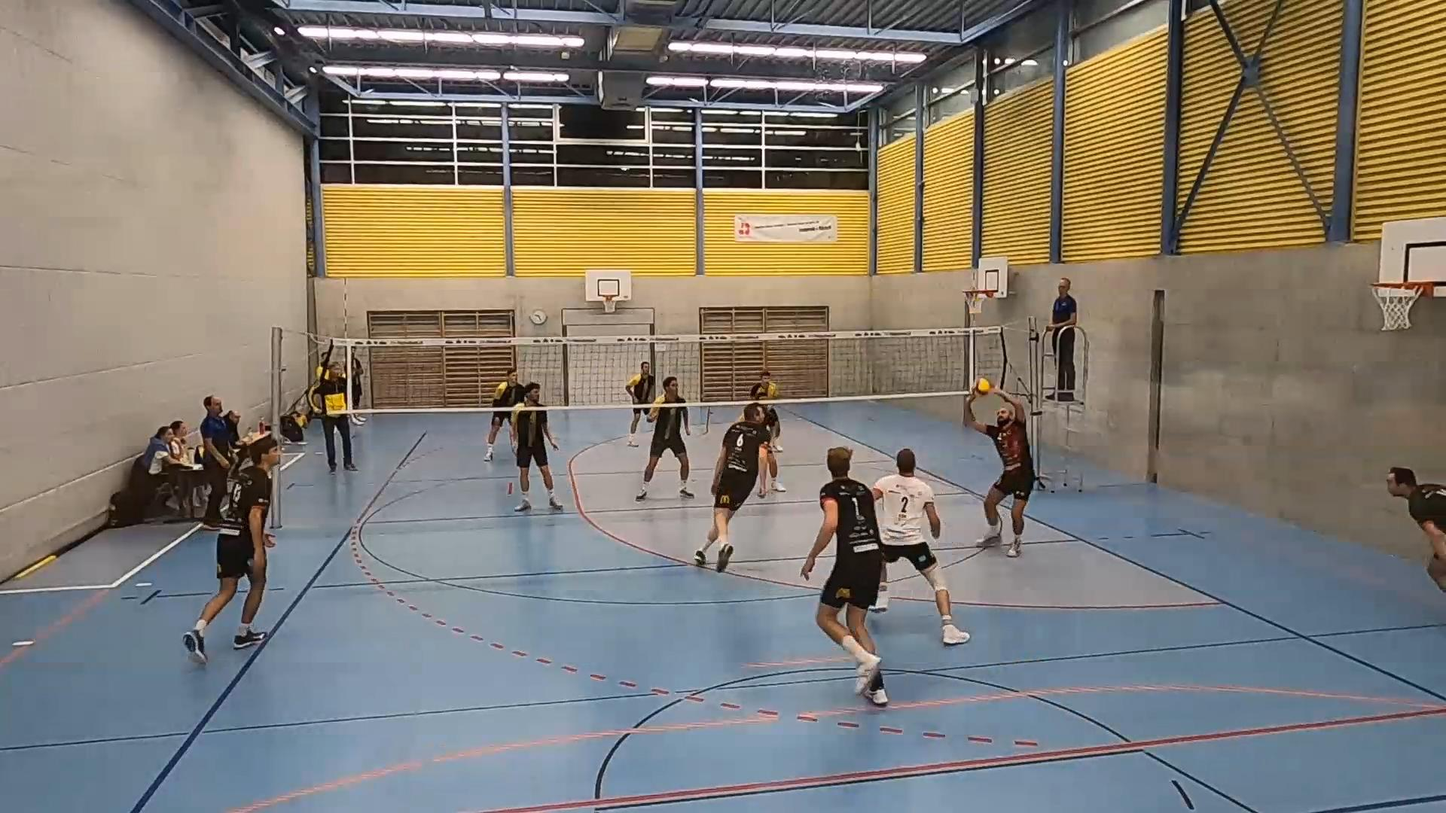alzata: (966, 390, 1041, 556)
